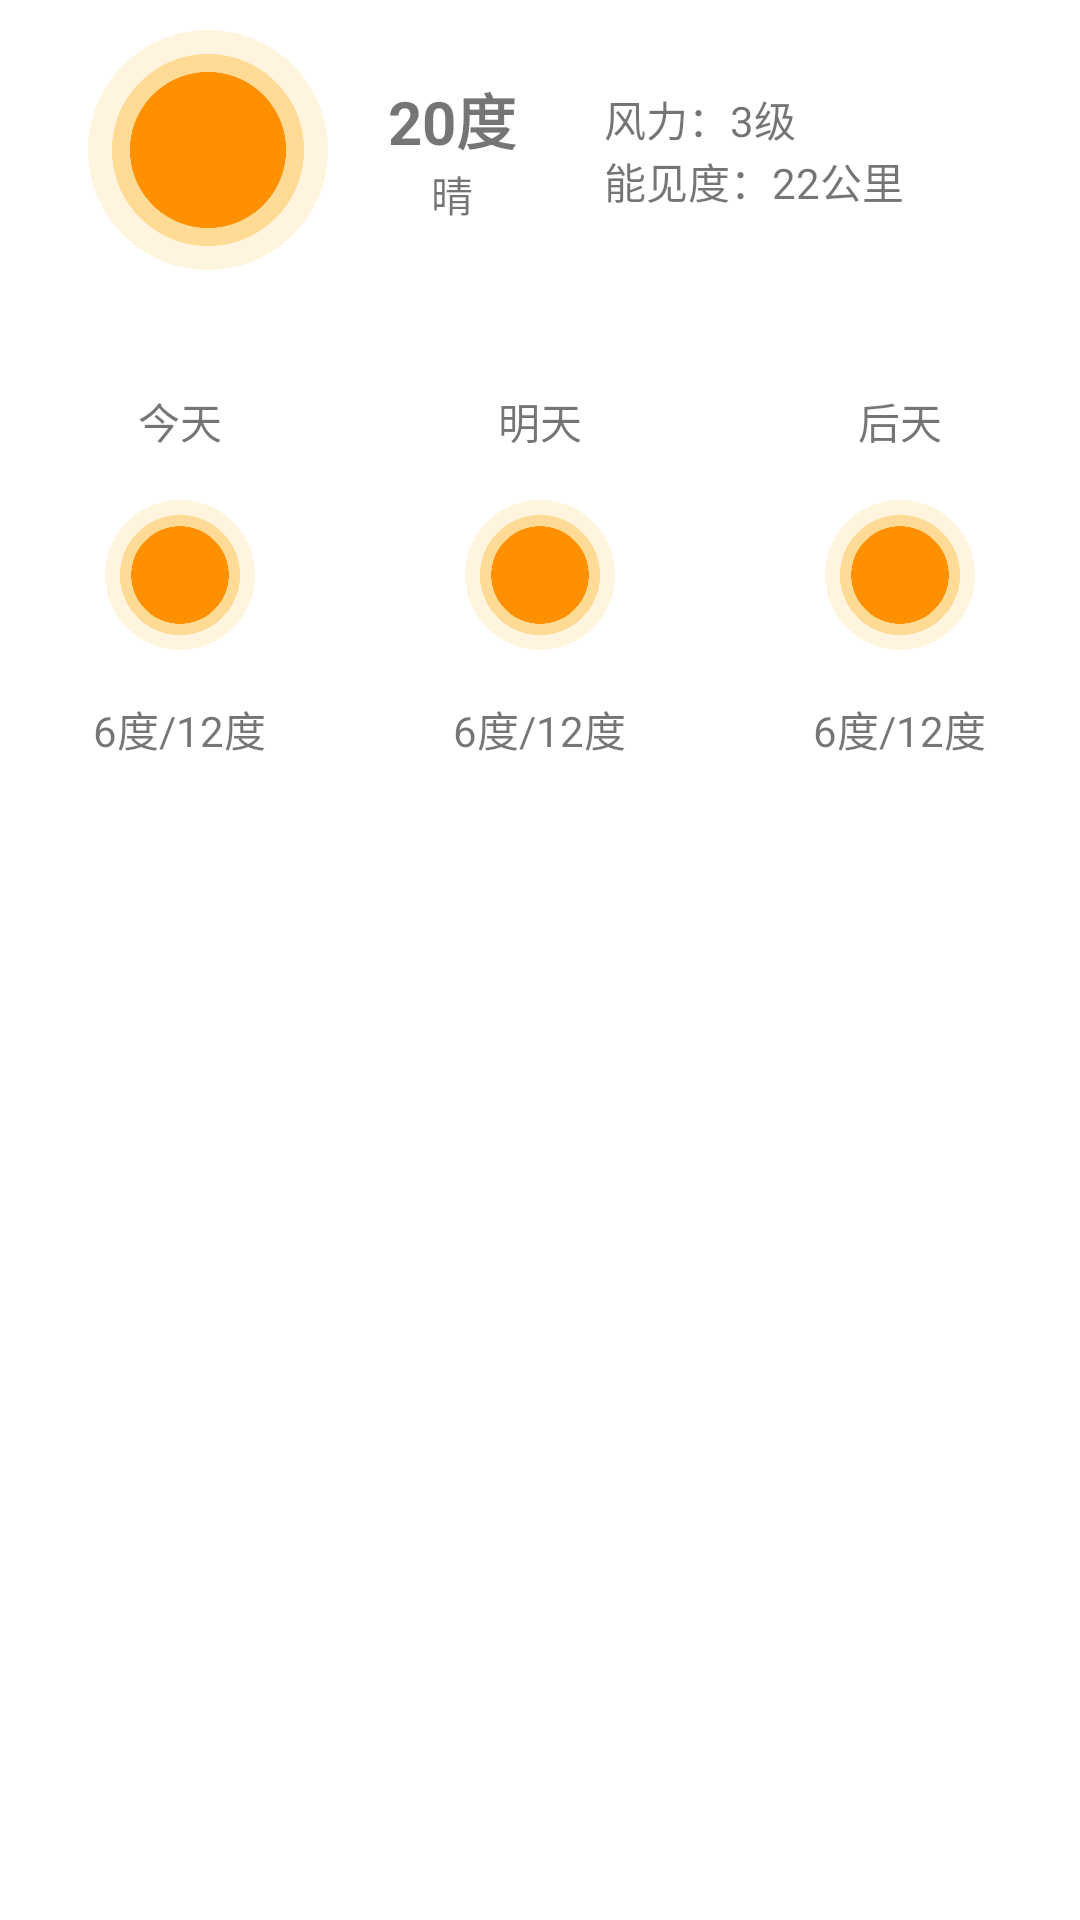

Named icons in this screenshot (1080px×1920px) and their centers, (x,y):
qingtian: (208,150), (180,575), (540,575), (900,575)
